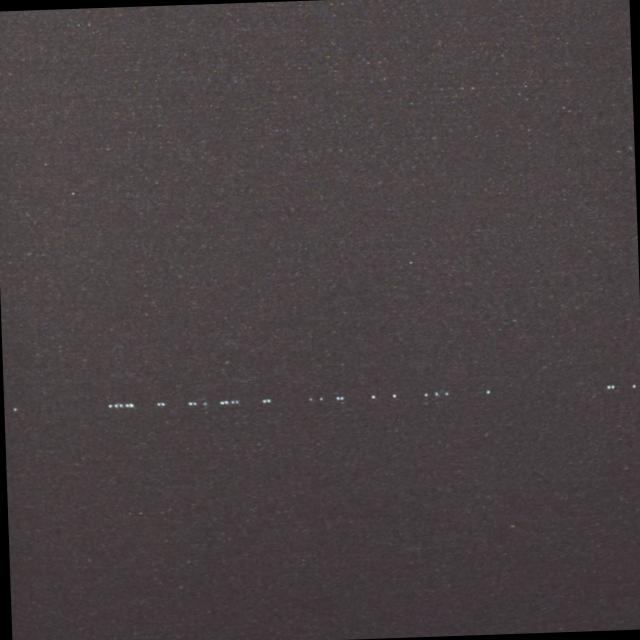Warp_Weft: (3, 383, 640, 413)
